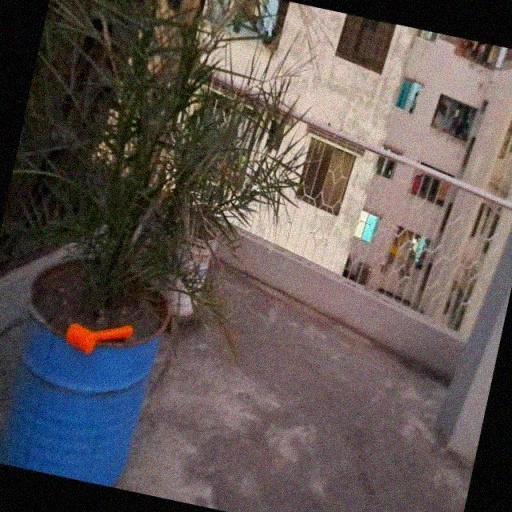mallet: (63, 312, 134, 362)
